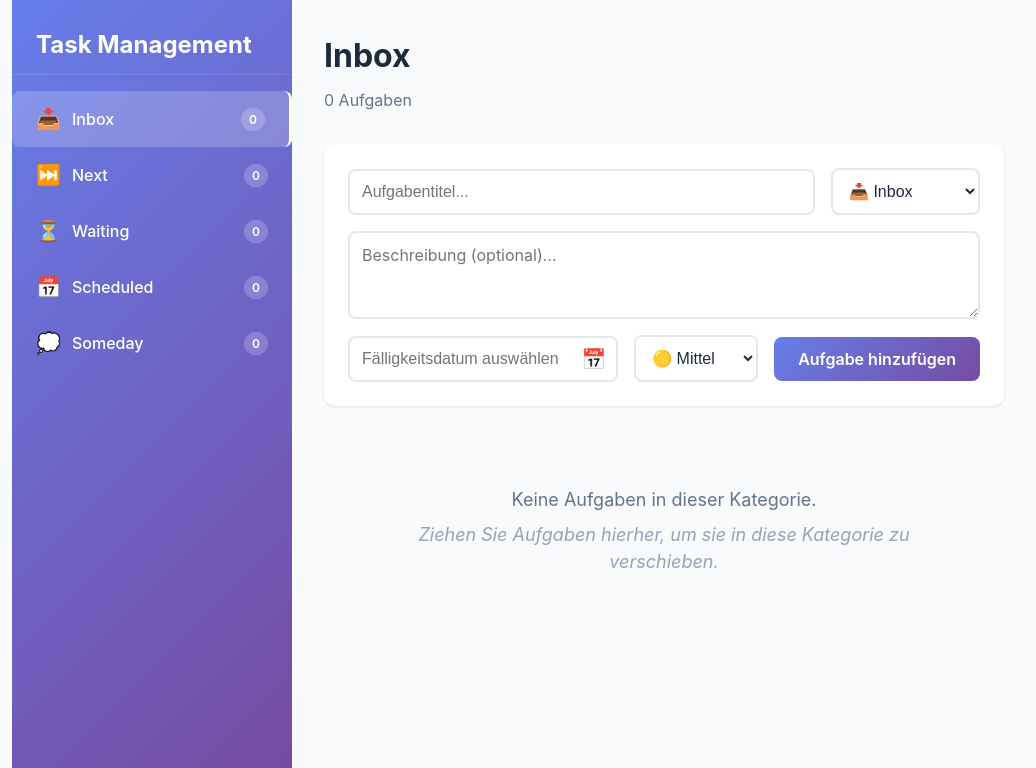
App › Task Management › should pre-select current category in add form
// Switch to Next category
Click the button "⏭️ Next 0" at [90, 175], box x1=12 y1=147 x2=292 y2=203
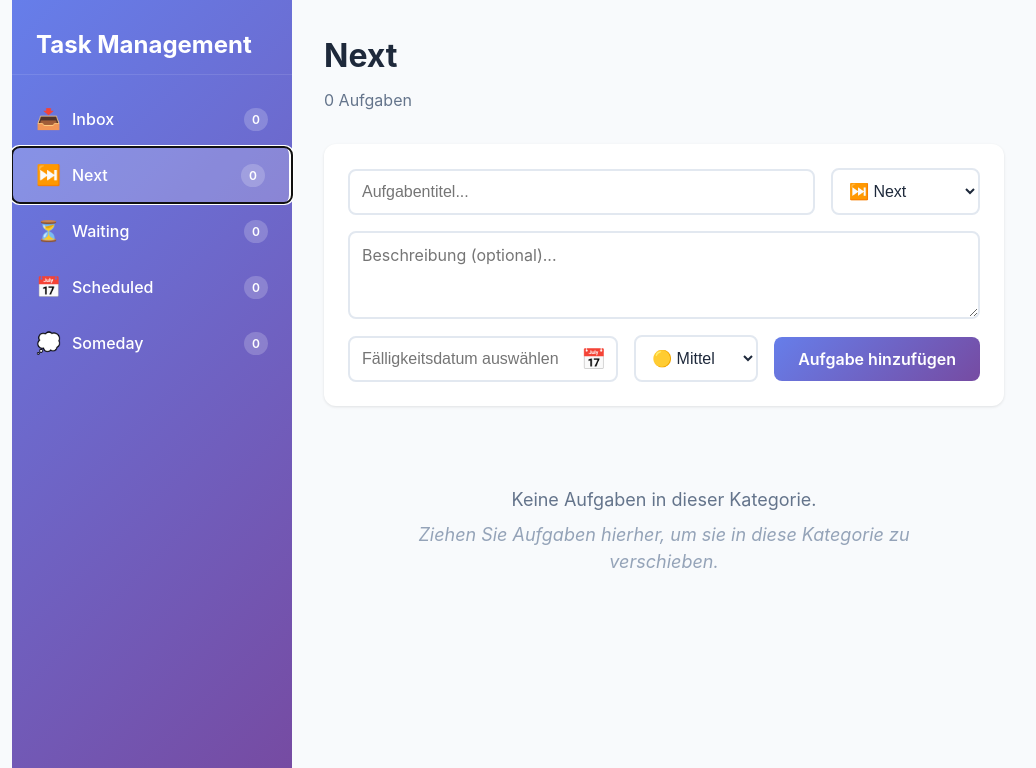
Type "Task in Next" into the field with placeholder "Aufgabentitel..." at [582, 192], box x1=348 y1=168 x2=815 y2=214
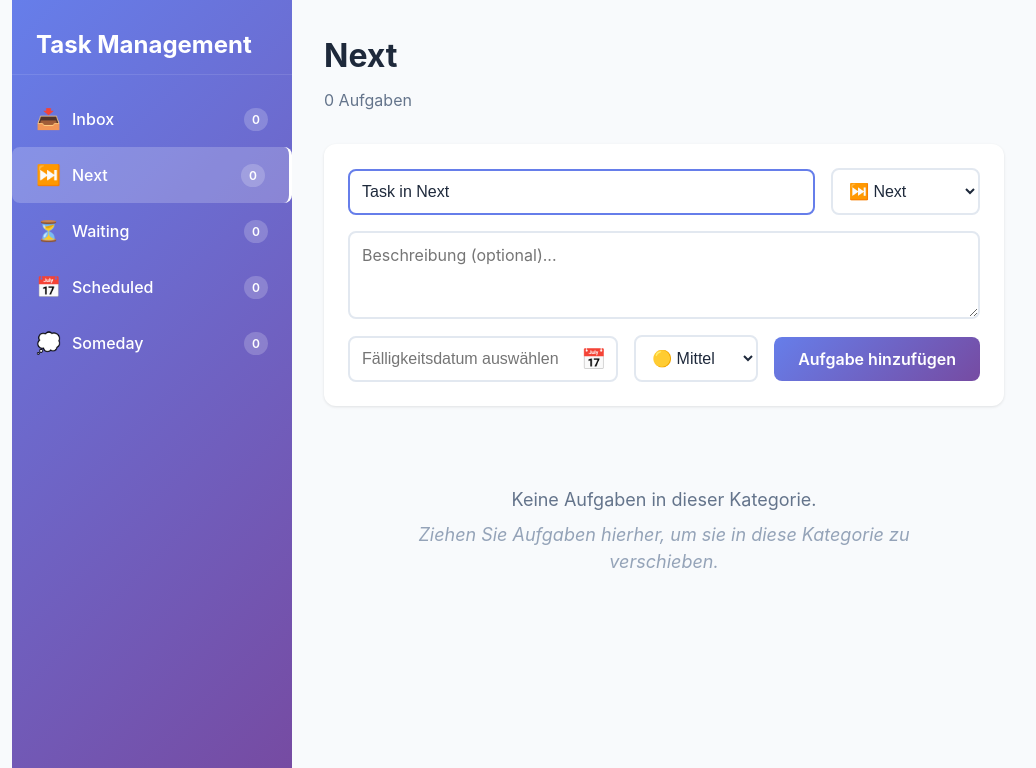
Click the button "Aufgabe hinzufügen" at [877, 358], box x1=774 y1=336 x2=980 y2=380
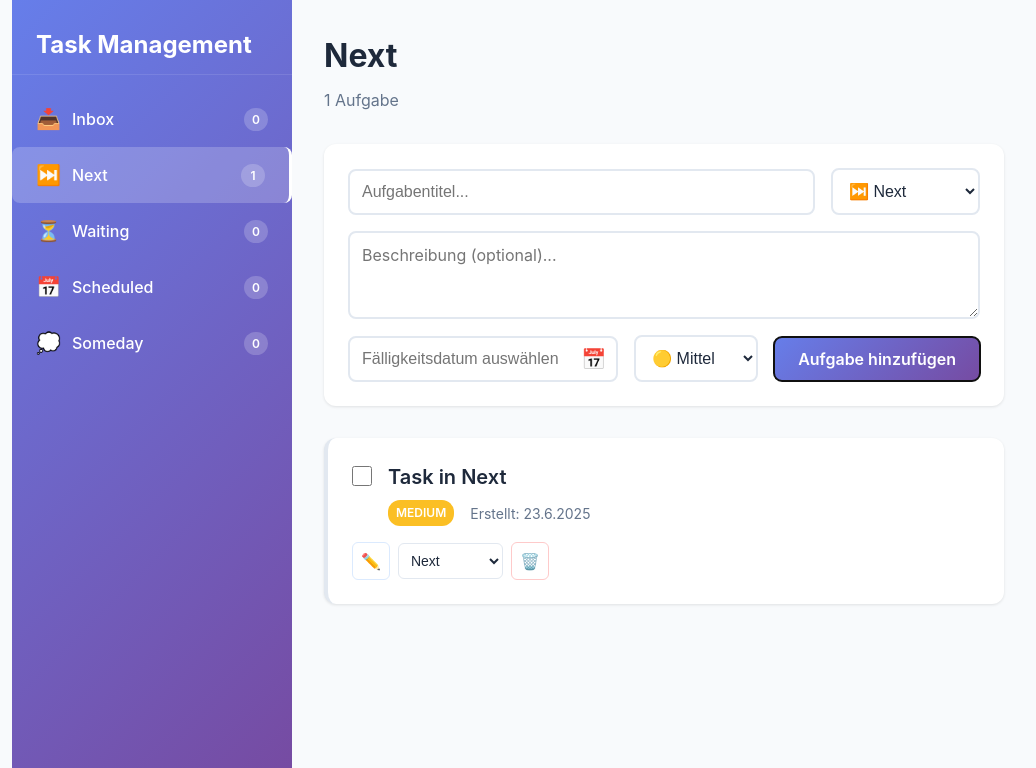
Result: the heading "Task in Next" is shown at x1=388 y1=465 x2=506 y2=489
Result: the text "1 Aufgabe" is shown at x1=324 y1=90 x2=399 y2=110
